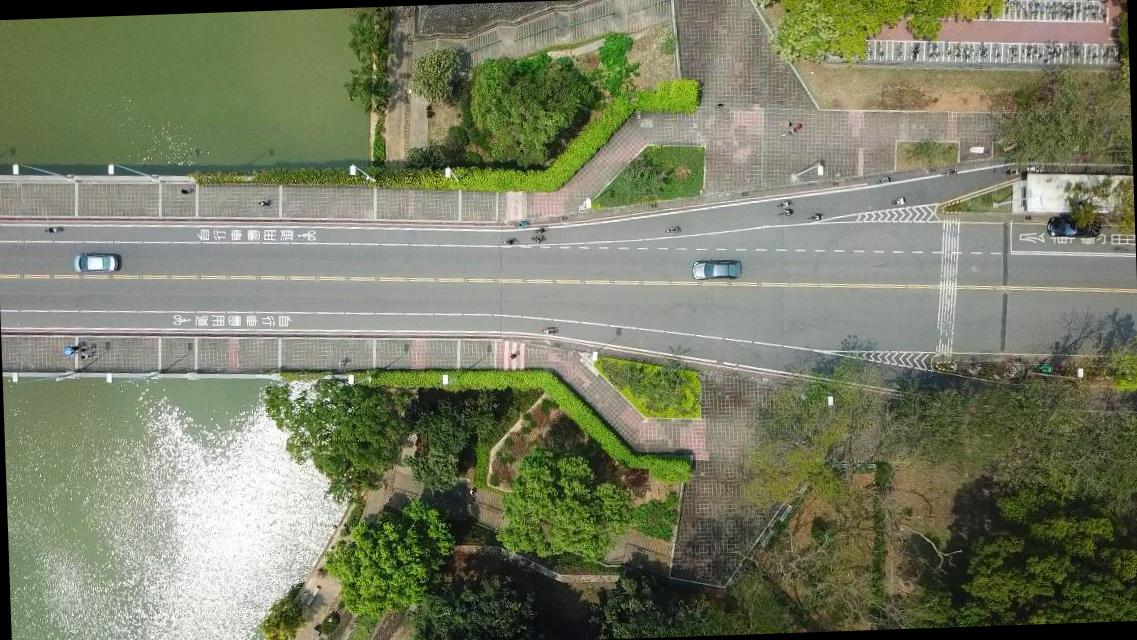vehicle: (1046, 214, 1100, 238), (691, 259, 742, 281), (74, 252, 119, 276)
